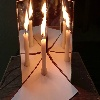fire: (40, 13, 46, 41)
